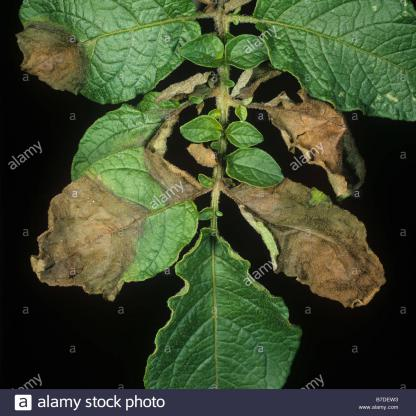potato leaf late blight: (27, 144, 200, 293), (222, 169, 386, 313), (10, 0, 206, 109), (246, 84, 371, 199)
